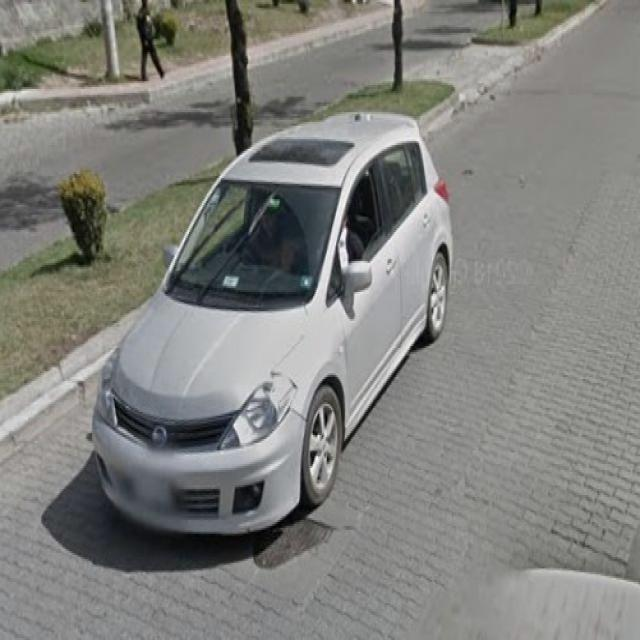Car: (90, 114, 450, 542)
